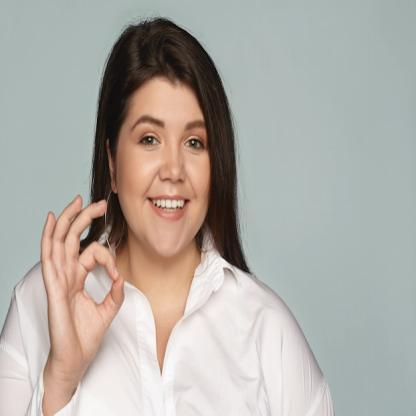ok: (39, 192, 127, 378)
